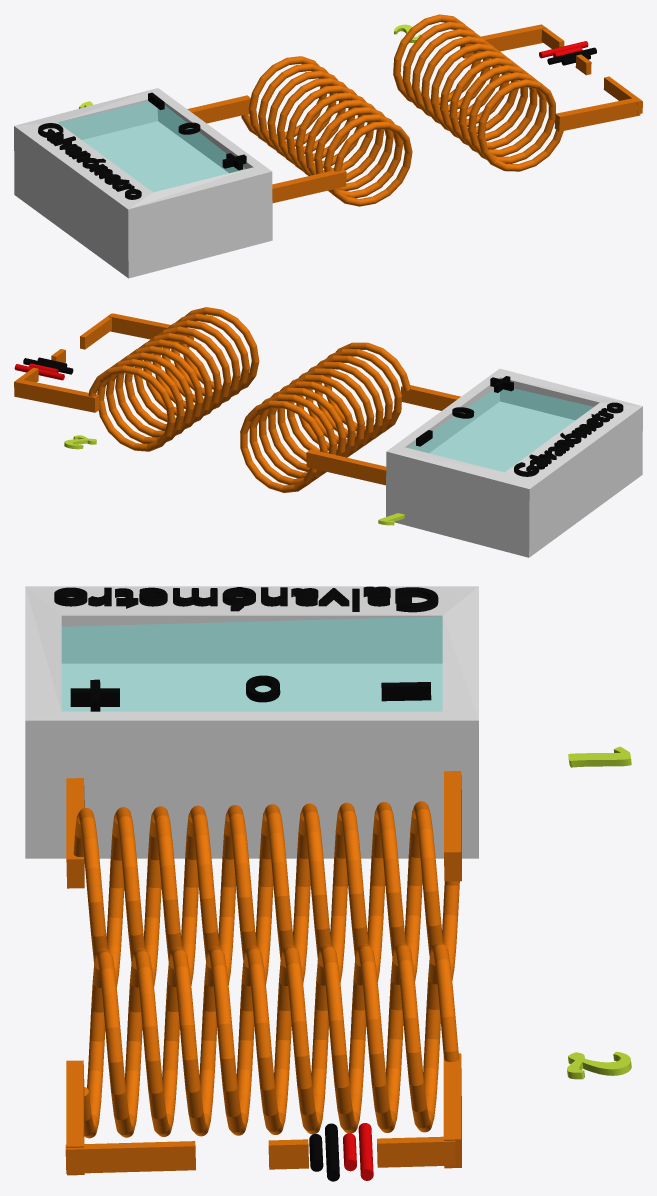
The model's file is bobinas1.dae.
3 renders of one model, top to bottom at view 1: azimuth 30°, elevation 25°; view 2: azimuth 150°, elevation 25°; view 3: azimuth 270°, elevation 25°, orthographic. The views are drawn at different scales.
Visible parts, largest first — view 1: Cubo.001, Plano.002, Plano, Plano.001, Cubo.003, Cubo; view 2: Cubo.001, Plano.002, Plano, Plano.001, Cubo.003, Cubo; view 3: Cubo.001, Plano.002, Plano, Plano.001, Cubo.003, Cubo, Cubo.006, Texto.018, Cubo.016, Cubo.017, Texto.019.
Boxes of the visible parts, x1,y1,x2,y2 form: Cubo.001: (14,88,272,278); Plano.002: (393,14,563,171); Plano: (241,56,412,206); Plano.001: (58,102,245,191); Cubo.003: (460,24,642,131); Cubo: (187,95,346,203); Cubo.001: (386,368,642,557); Plano.002: (88,307,259,451); Plano: (240,342,410,492); Plano.001: (408,388,592,471); Cubo.003: (14,313,193,412); Cubo: (306,385,460,485); Cubo.001: (25,586,478,858); Plano.002: (84,942,459,1138); Plano: (73,801,459,987); Plano.001: (62,617,442,711); Cubo.003: (65,1053,461,1175); Cubo: (66,771,461,888); Cubo.006: (268,1139,308,1169); Texto.018: (567,1051,631,1079); Cubo.016: (70,679,119,711); Cubo.017: (381,682,431,701); Texto.019: (568,746,631,767).
Size of the model in its own units: 2.35 by 1.14 by 0.3733.
